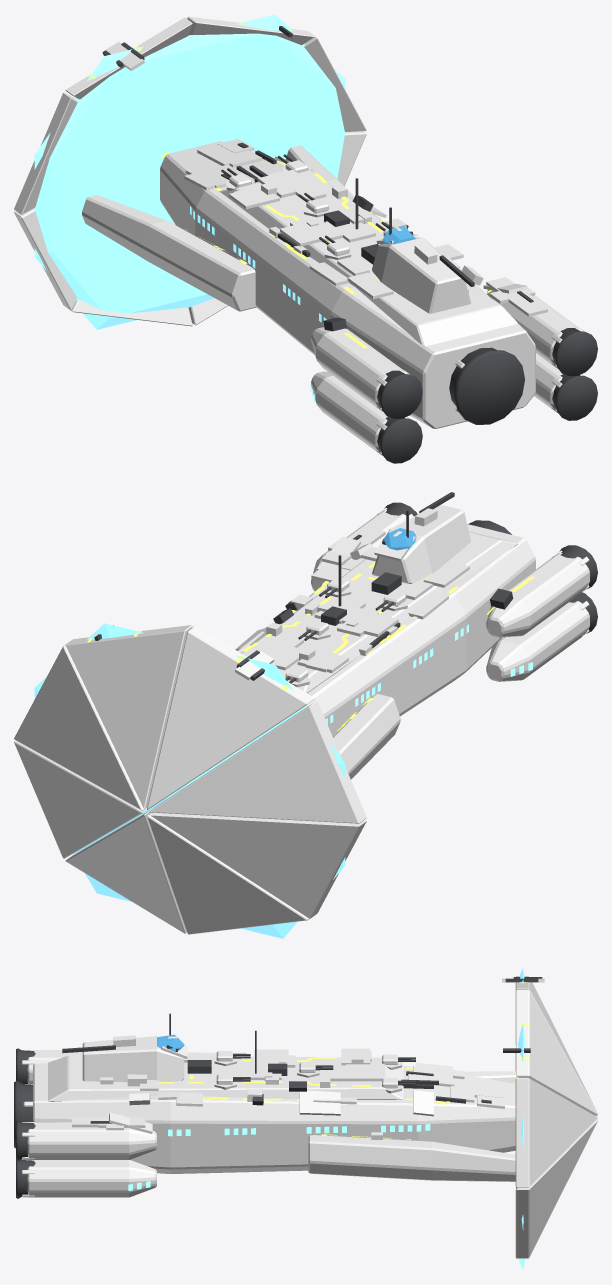
Rendered from strazh.glb.
The picture shows the model from 3 angles, top to bottom: view 1: azimuth 30°, elevation 25°; view 2: azimuth 150°, elevation 25°; view 3: azimuth 270°, elevation 25°; orthographic projection. The views are drawn at different scales.
Visible parts, largest first — view 1: Подложка_щита, Корпус, Накладные_плиты, Опора_щита.001, Палуба, Кожух_дюзы.004, Рубка, Гондола.002, Гондола.003, Механика, Бронегрань.001, Гондола (+13 smaller); view 2: Корпус, Бронегрань.001, Бронегрань, Бронегрань.007, Бронегрань.002, Накладные_плиты, Бронегрань.006, Бронегрань.003, Палуба, Бронегрань.005, Бронегрань.004, Гондола.002 (+7 smaller); view 3: Корпус, Накладные_плиты, Опора_щита, Палуба, Бронегрань.006, Гондола.001, Бронегрань.007, Гондола, Бронегрань.005, Рубка, Механика, Решётки (+9 smaller).
Boxes of the visible parts, x1,y1,x2,y2 form: Подложка_щита: (34,14,345,329); Корпус: (160,141,535,428); Накладные_плиты: (105,42,547,316); Опора_щита.001: (82,195,256,311); Палуба: (219,170,517,347); Кожух_дюзы.004: (449,347,524,424); Рубка: (372,237,470,313); Гондола.002: (311,327,407,410); Гондола.003: (311,371,407,454); Механика: (102,26,533,331); Бронегрань.001: (14,92,77,214); Гондола: (487,289,582,366); Корпус: (293,524,535,736); Бронегрань.001: (149,701,366,823); Бронегрань: (147,626,314,809); Бронегрань.007: (65,625,192,809); Бронегрань.002: (149,812,366,918); Накладные_плиты: (234,508,469,680); Бронегрань.006: (14,642,143,810); Бронегрань.003: (147,814,309,934); Палуба: (241,531,518,692); Бронегрань.005: (14,740,147,858); Бронегрань.004: (65,810,186,933); Гондола.002: (486,552,589,637); Корпус: (33,1063,515,1173); Накладные_плиты: (72,978,544,1139); Опора_щита: (308,1135,515,1181); Палуба: (48,1055,403,1101); Бронегрань.006: (515,1078,597,1187); Гондола.001: (27,1160,156,1197); Бронегрань.007: (516,990,597,1115); Гондола: (27,1122,156,1159); Бронегрань.005: (515,1119,597,1257); Рубка: (82,1036,184,1082); Механика: (62,977,542,1123); Решётки: (128,1124,430,1190).
Size of the model in its own units: 1.22 by 1.03 by 2.12.
